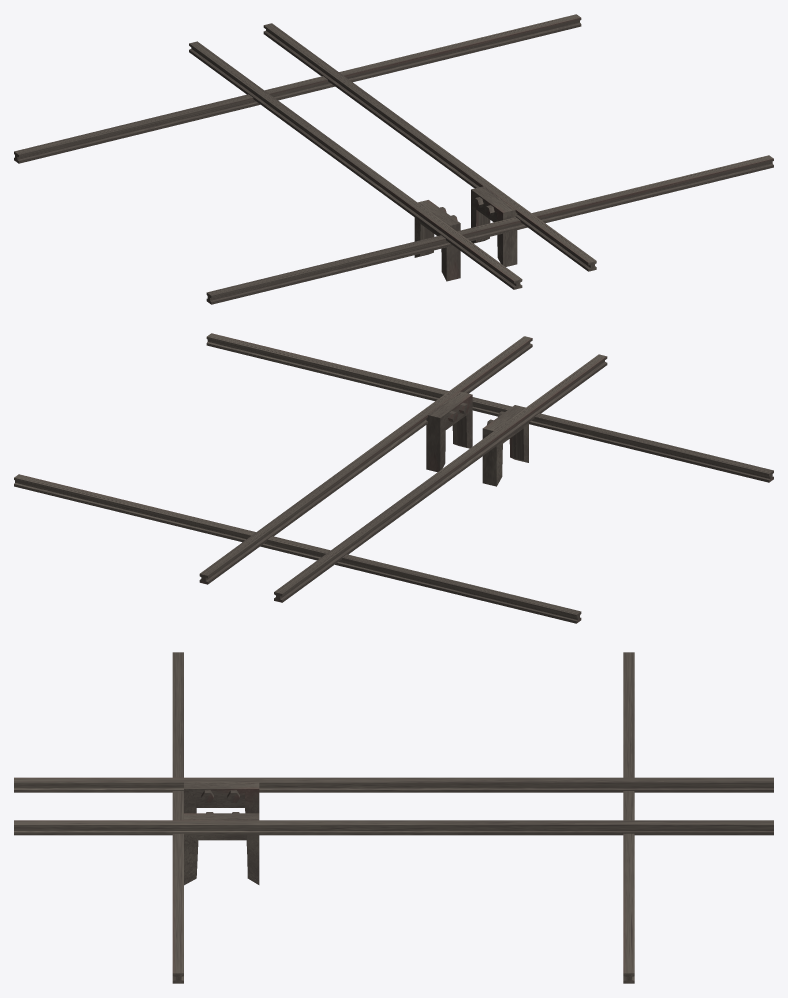
The model's file is Crane.fbx.
3 views of the same model, one above another, from view 1: azimuth 30°, elevation 25°; view 2: azimuth 150°, elevation 25°; view 3: azimuth 270°, elevation 25° (orthographic). The views are drawn at different scales.
Visible parts, largest first — view 1: Support, CranePiece1, Crane; view 2: Support, CranePiece1, Crane; view 3: CranePiece1, Support, Crane.
Boxes of the visible parts, x1=… form: Support: x1=14, y1=14, x2=773, y2=304; CranePiece1: x1=189, y1=23, x2=596, y2=289; Crane: x1=414, y1=186, x2=517, y2=281; Support: x1=14, y1=333, x2=773, y2=623; CranePiece1: x1=199, y1=336, x2=607, y2=602; Crane: x1=426, y1=391, x2=528, y2=486; CranePiece1: x1=14, y1=777, x2=773, y2=835; Support: x1=172, y1=652, x2=634, y2=983; Crane: x1=184, y1=782, x2=259, y2=885.
Size of the model in its own units: 12173 by 1136 by 12173.
